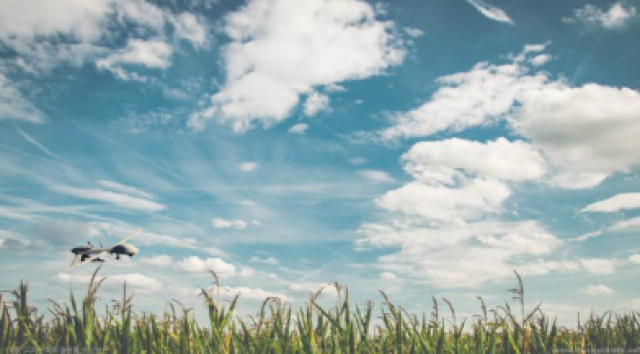military drone: (61, 227, 143, 271)
